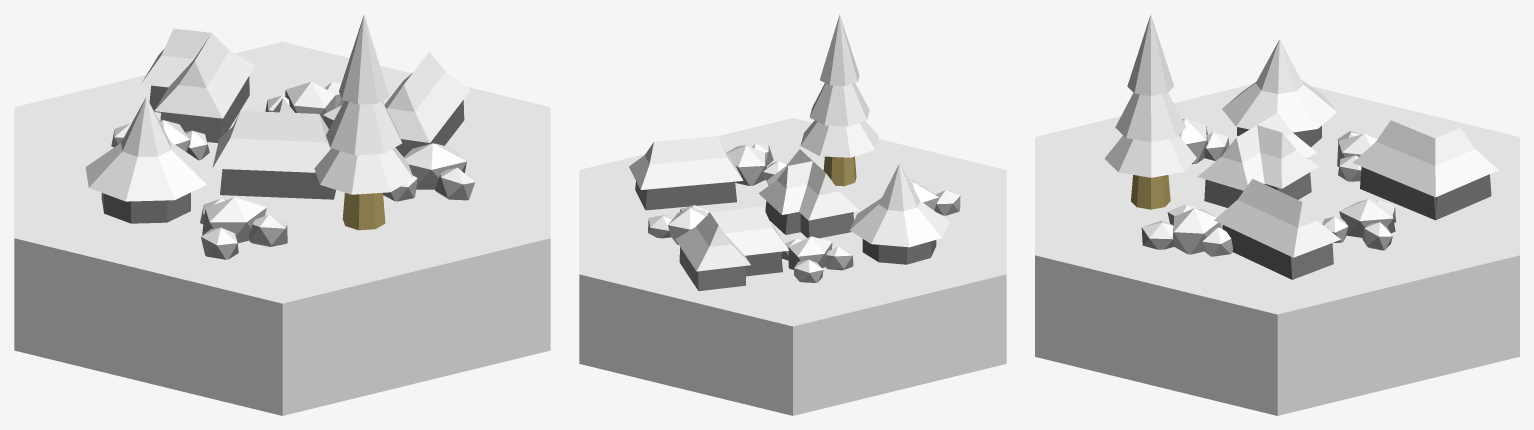
Rendered from Casas_Pinos_Rocas_Nieve_4.fbx.
3 renders of one model, left to right at view 1: azimuth 30°, elevation 25°; view 2: azimuth 150°, elevation 25°; view 3: azimuth 270°, elevation 25°, orthographic. The views are drawn at different scales.
Visible parts, largest first — view 1: Casas_Pinos_Rocas_Nieve_4; view 2: Casas_Pinos_Rocas_Nieve_4; view 3: Casas_Pinos_Rocas_Nieve_4.
Boxes of the visible parts, <box> form: Casas_Pinos_Rocas_Nieve_4: <box>14,14,550,415</box>; Casas_Pinos_Rocas_Nieve_4: <box>579,14,1006,415</box>; Casas_Pinos_Rocas_Nieve_4: <box>1035,14,1519,415</box>.
Size of the model in its own units: 200 by 114 by 173.
